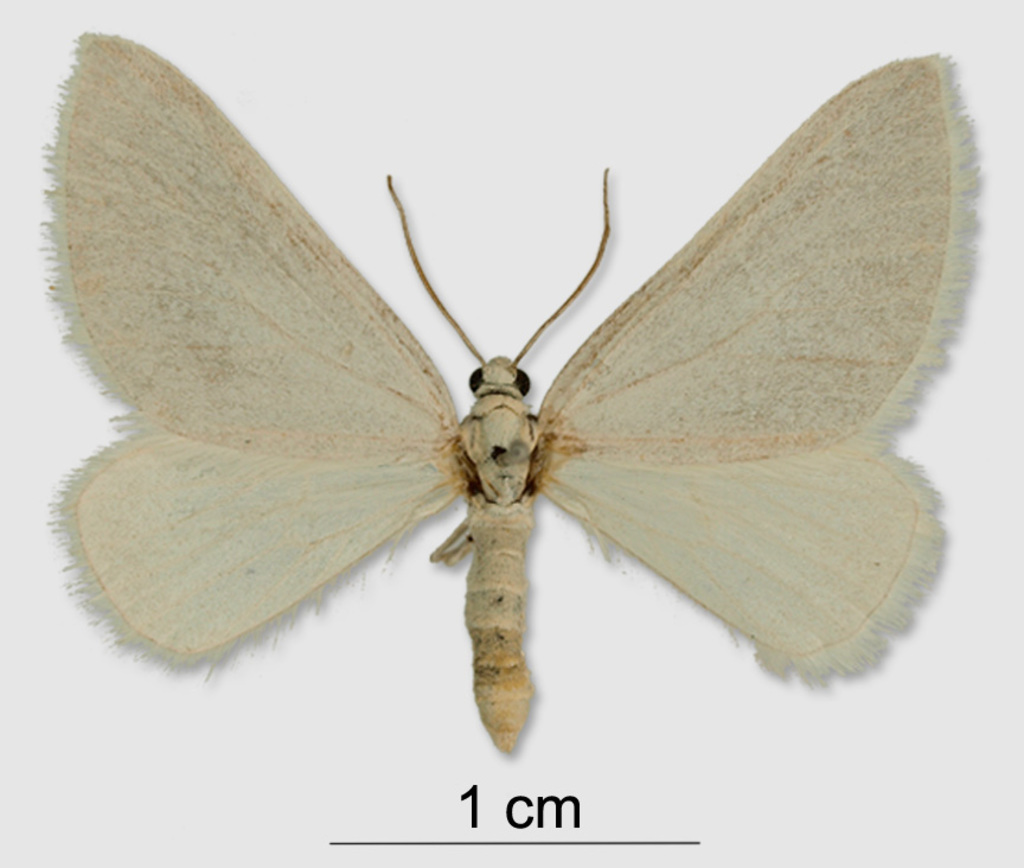Butterfly: (15, 1, 995, 699)
